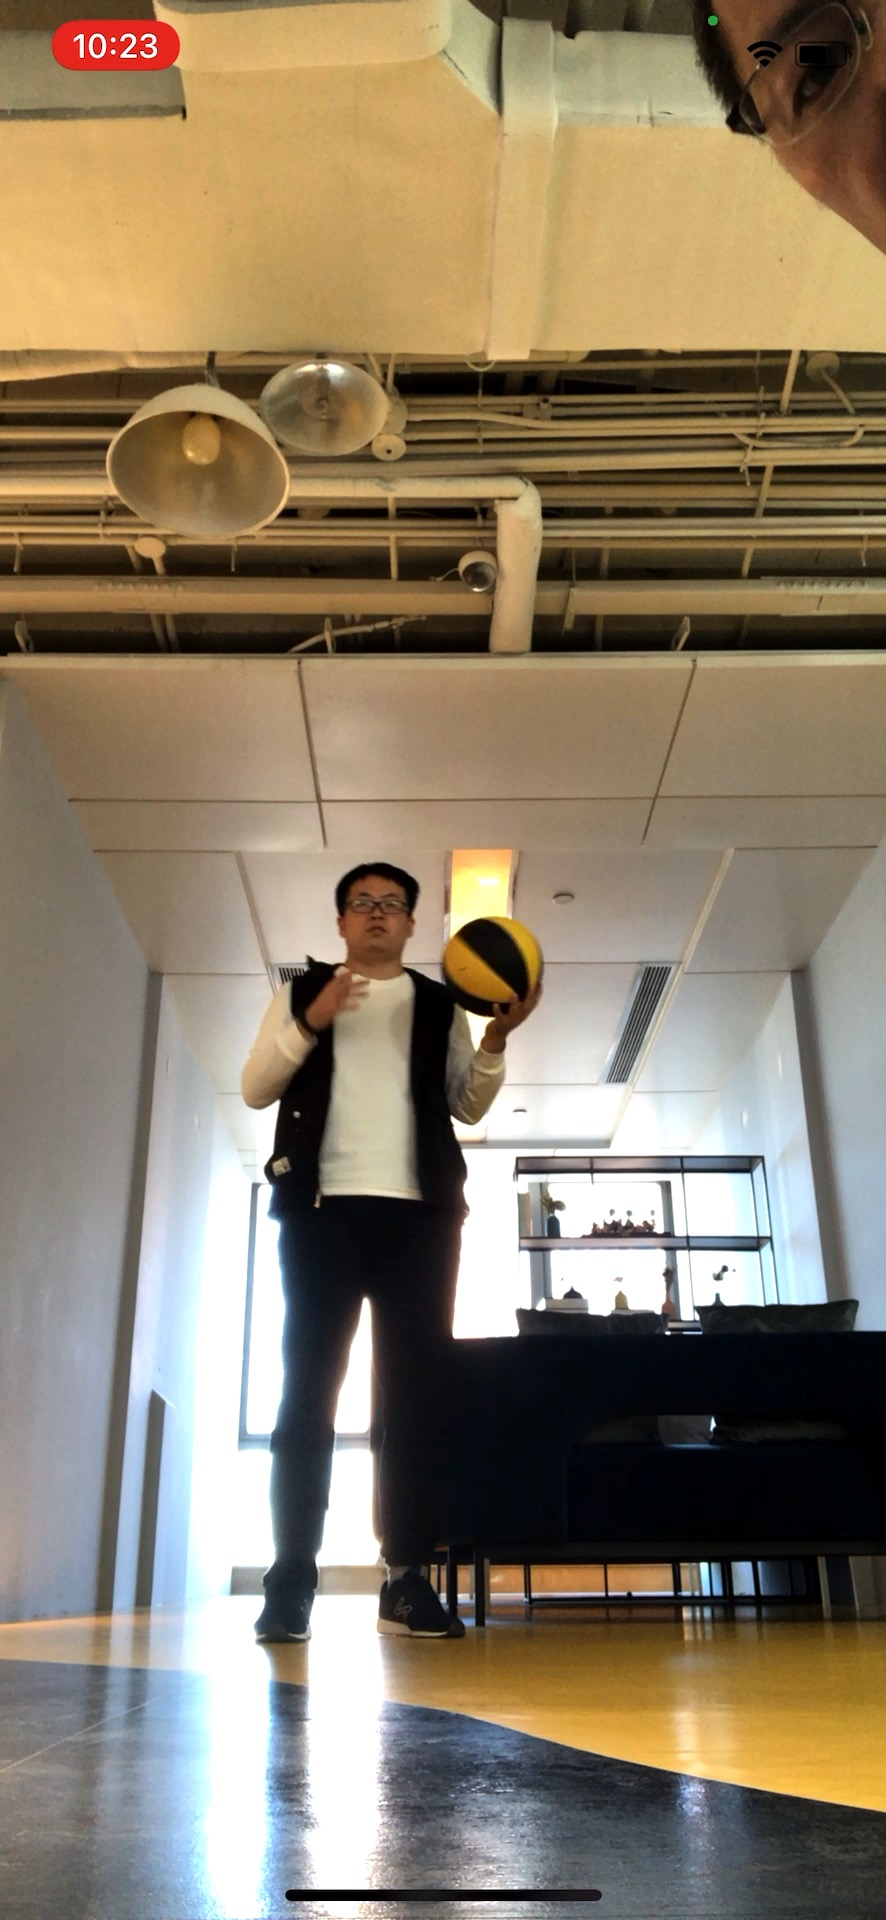ball: (441, 916, 547, 1014)
